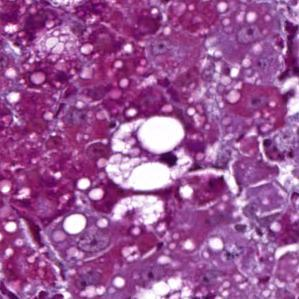ballooning: (105, 116, 193, 193)
